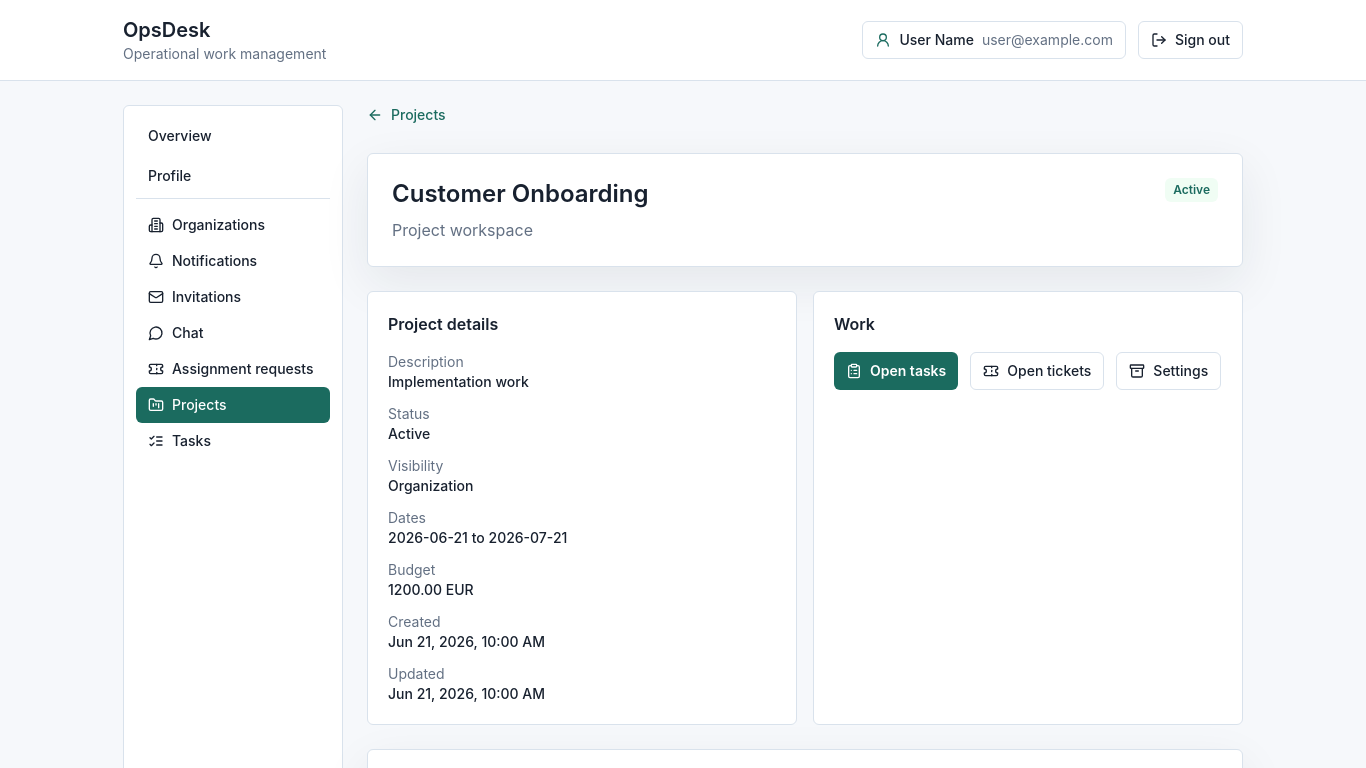
Test: SPEC-104 frontend app shell and auth UI › routes Tasks to the current project task list and marks only Tasks active
Check: the heading "Customer Onboarding" is shown, box top-left (392, 178), bottom-right (648, 210)
Click the link "Tasks": point(180, 440) top-left (148, 432), bottom-right (211, 449)
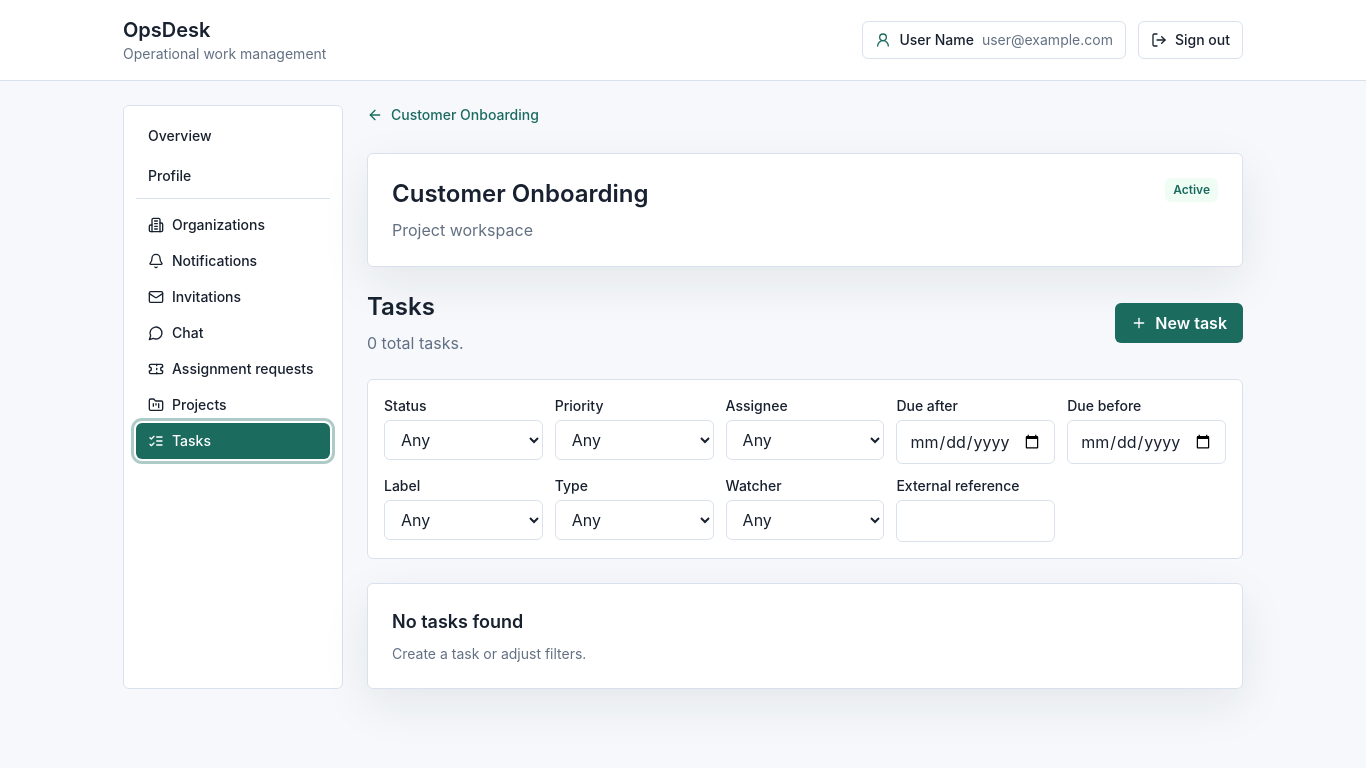
Check: the heading "Tasks" is shown, box top-left (367, 292), bottom-right (435, 321)
